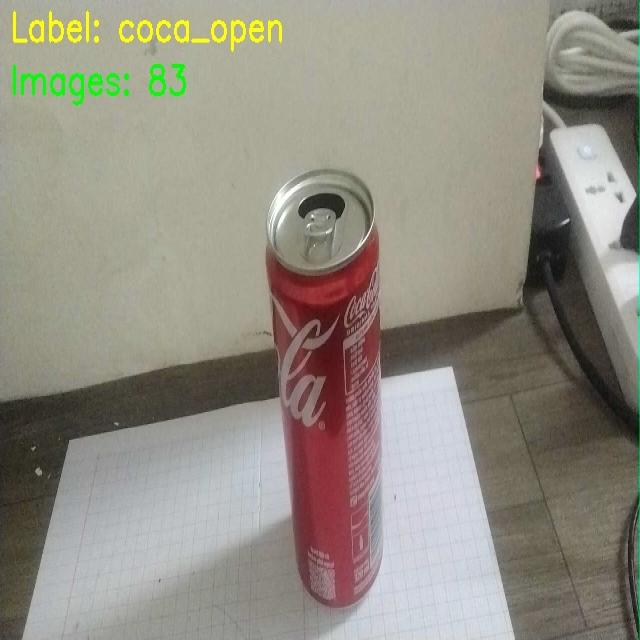Coca_open: (261, 178, 403, 610)
